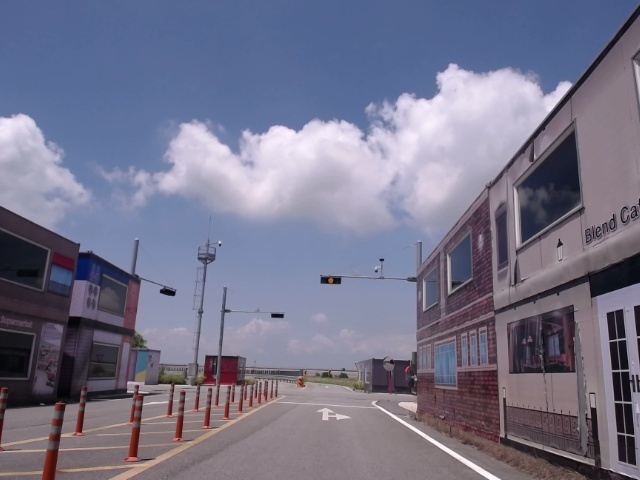orange_3: (319, 276, 340, 283)
